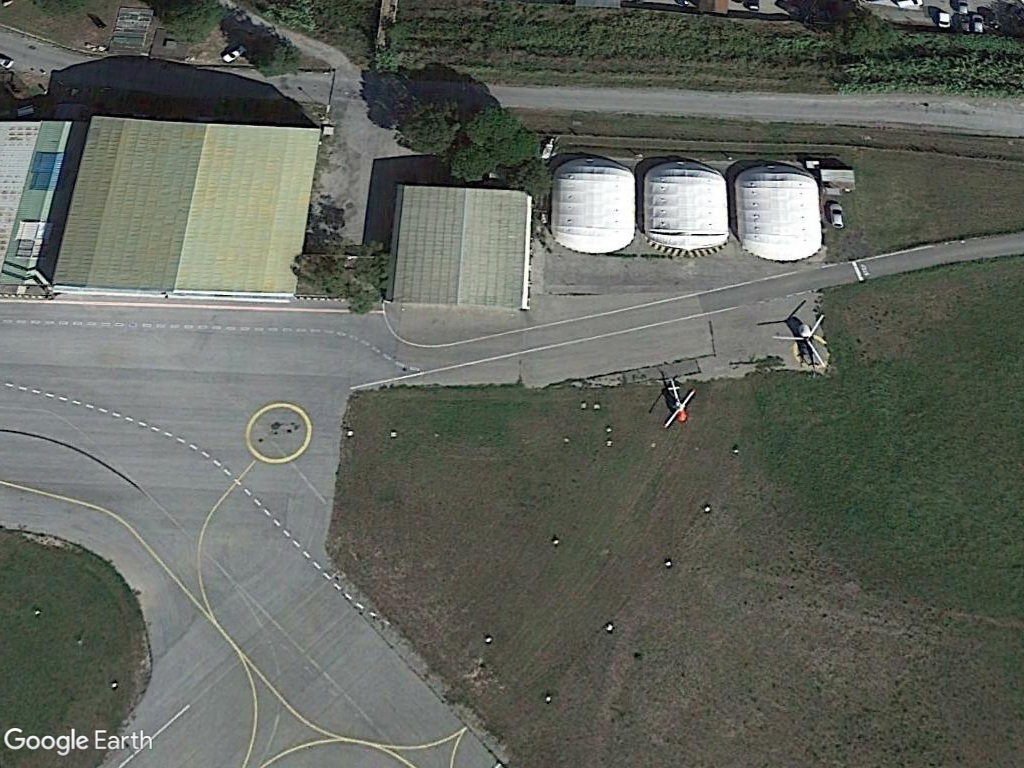helicopter: (771, 309, 839, 376), (654, 373, 698, 434)
